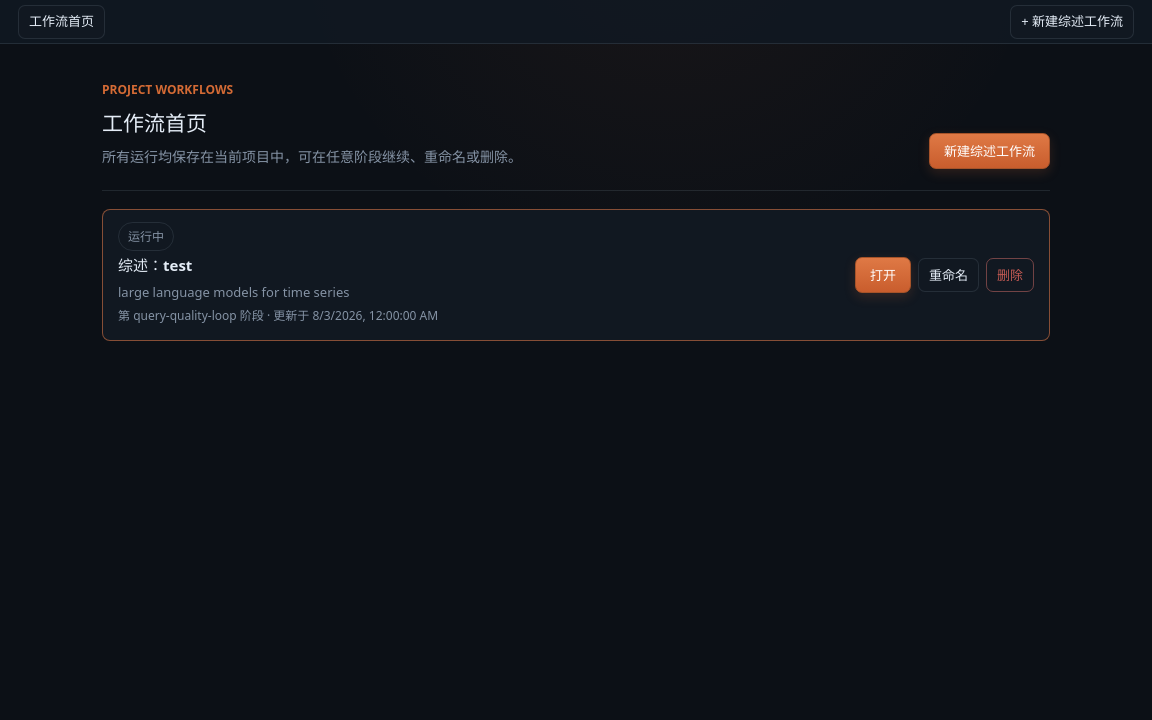
it: workflow orchestration › opens the first unfinished stage instead of the last passed stage
Click the button "打开" at (883, 275), box [855,257,911,293]
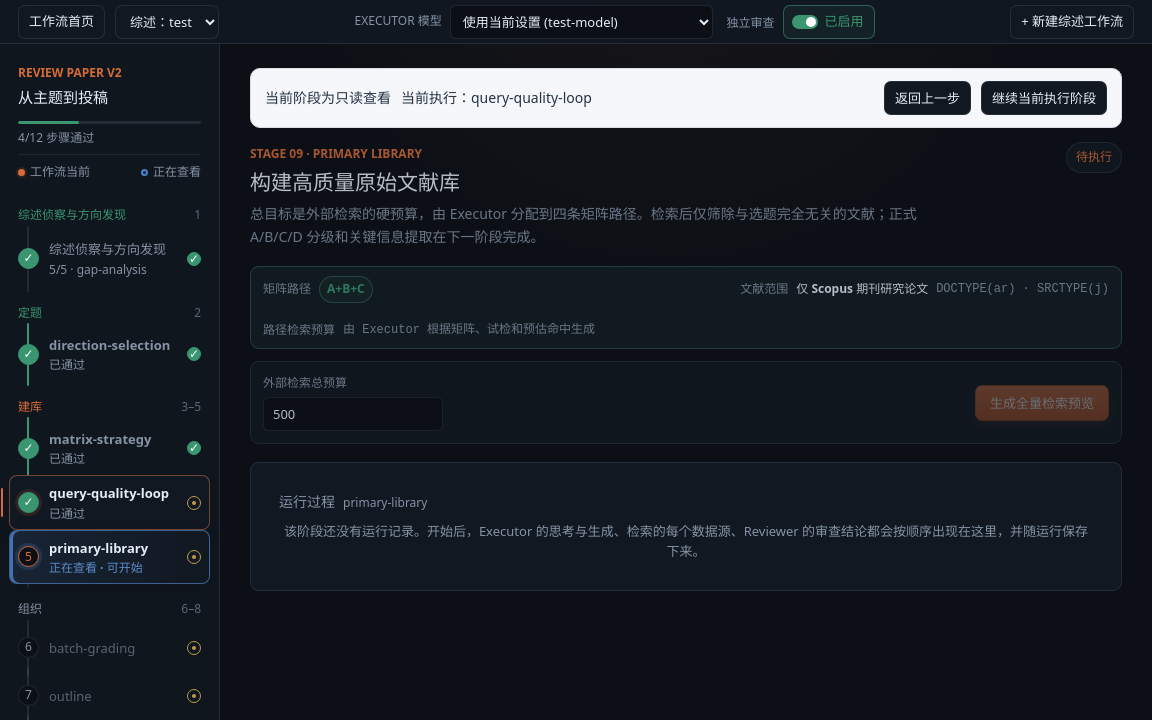
Expected: the heading "构建高质量原始文献库" is shown, [250,168,460,196]
